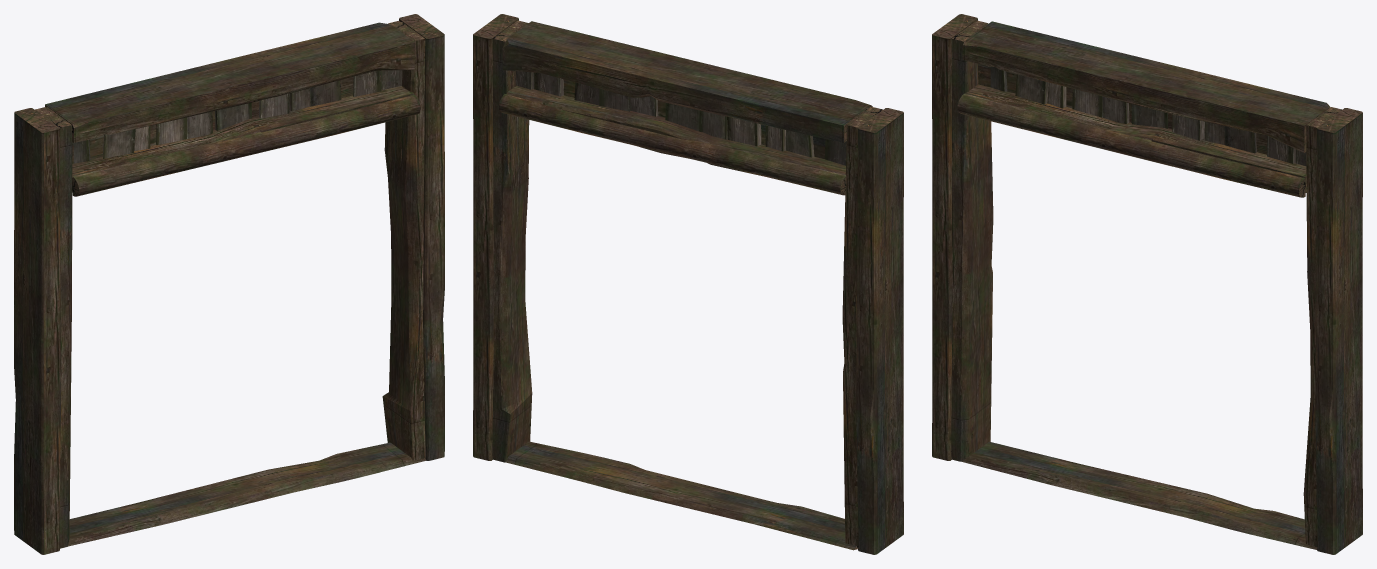
The picture shows the model from 3 angles, left to right: view 1: azimuth 30°, elevation 25°; view 2: azimuth 150°, elevation 25°; view 3: azimuth 330°, elevation 25°; orthographic projection.
Visible parts, largest first — view 1: SM_BB_T1_Wall_Doorframe_Double_LOD0; view 2: SM_BB_T1_Wall_Doorframe_Double_LOD0; view 3: SM_BB_T1_Wall_Doorframe_Double_LOD0.
Part boxes in pixels (left/top/right/bottom): SM_BB_T1_Wall_Doorframe_Double_LOD0: left=14, top=14, right=444, bottom=554; SM_BB_T1_Wall_Doorframe_Double_LOD0: left=473, top=14, right=903, bottom=554; SM_BB_T1_Wall_Doorframe_Double_LOD0: left=932, top=14, right=1362, bottom=554.
Bounding box in the file's own units: 3 × 3 × 0.4915.
Materials: 2 (2 with a texture image).
